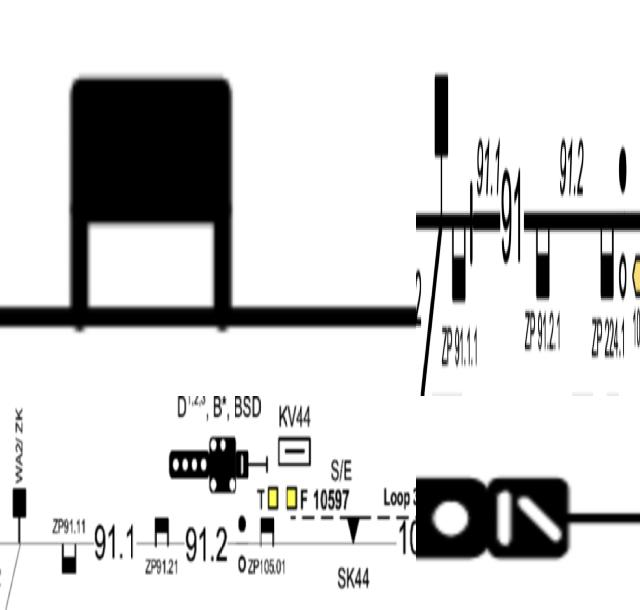radzaehler: (64, 66, 239, 352), (498, 160, 528, 283), (534, 196, 552, 311), (598, 200, 616, 311), (449, 199, 467, 308), (56, 538, 82, 584), (151, 513, 173, 556), (257, 514, 279, 552)
tracknumber: (89, 522, 142, 568), (181, 524, 232, 567)
weiche: (432, 55, 450, 234), (10, 485, 32, 559)
